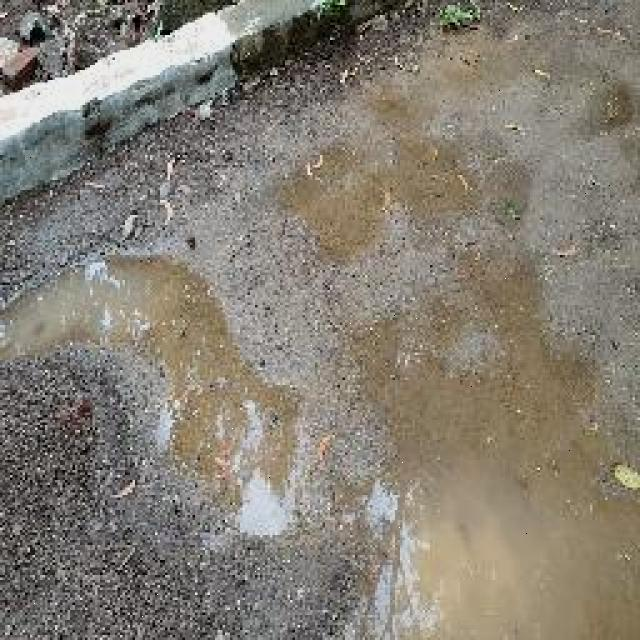stagnation: (293, 152, 640, 640), (0, 232, 288, 560)
